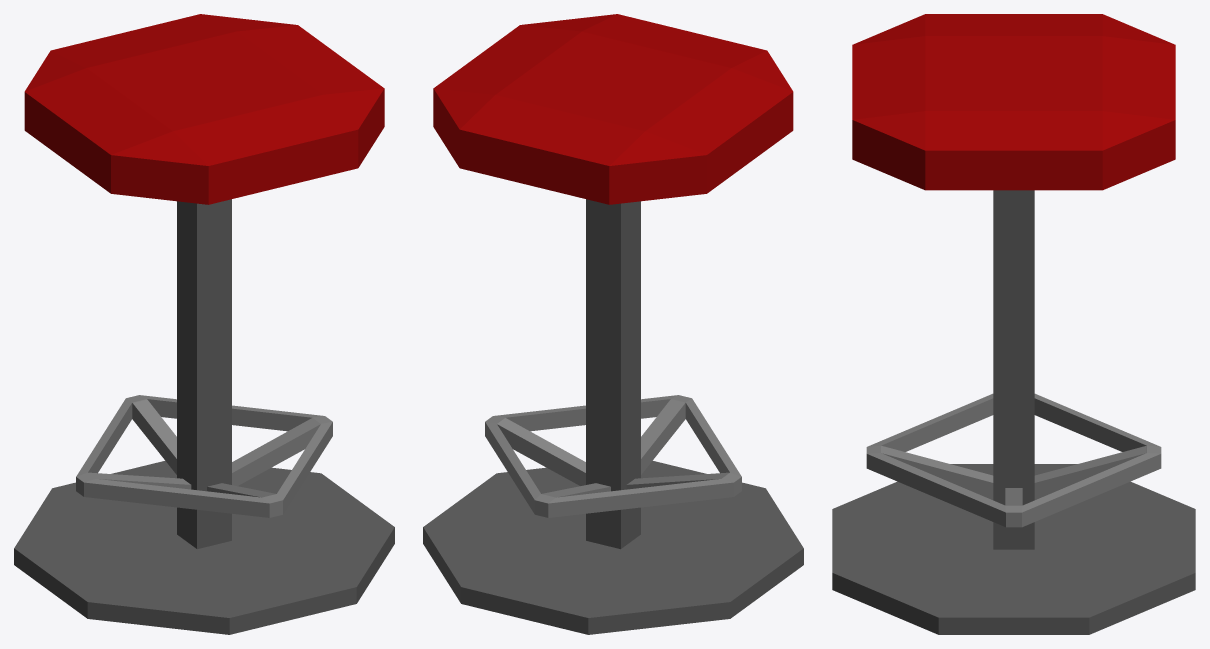
The model's file is BarStool.fbx.
The picture shows the model from 3 angles, left to right: view 1: azimuth 30°, elevation 25°; view 2: azimuth 150°, elevation 25°; view 3: azimuth 270°, elevation 25°; orthographic projection. The views are drawn at different scales.
Visible parts, largest first — view 1: Bar Stool.009; view 2: Bar Stool.009; view 3: Bar Stool.009.
Part boxes in pixels (box(x1,y1,x2,y2)): Bar Stool.009: box(14, 14, 394, 634); Bar Stool.009: box(423, 14, 803, 634); Bar Stool.009: box(832, 14, 1195, 634).
Size of the model in its own units: 51.61 by 75.93 by 51.61.
